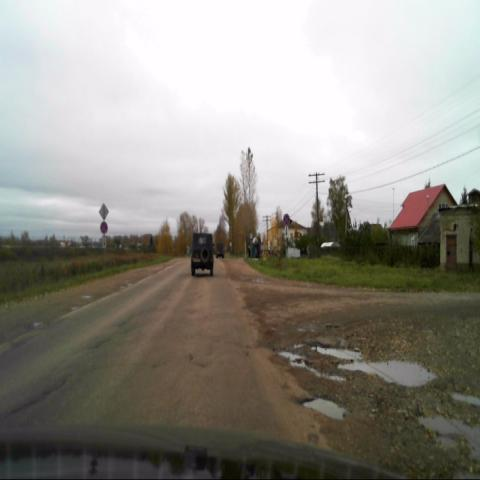3_27: (100, 220, 108, 234), (282, 213, 290, 226)
